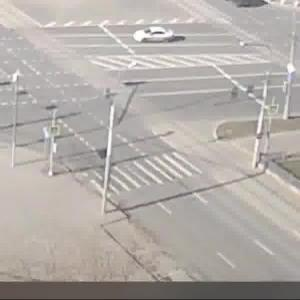car: (136, 25, 186, 49)
